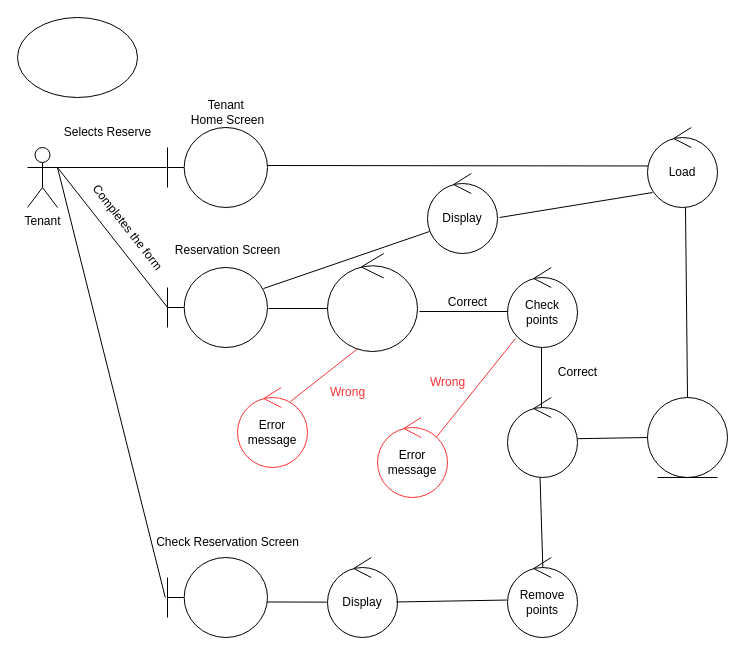
This 745x655 diagram has some shape labels left out. The centre of each missing label's shape, as x and y in pixels:
"Add" goes at [542,437].
"Check Availability" goes at [372,302].
"Reservation List" goes at [687,437].
"Shared Space Management" goes at [77,57].
